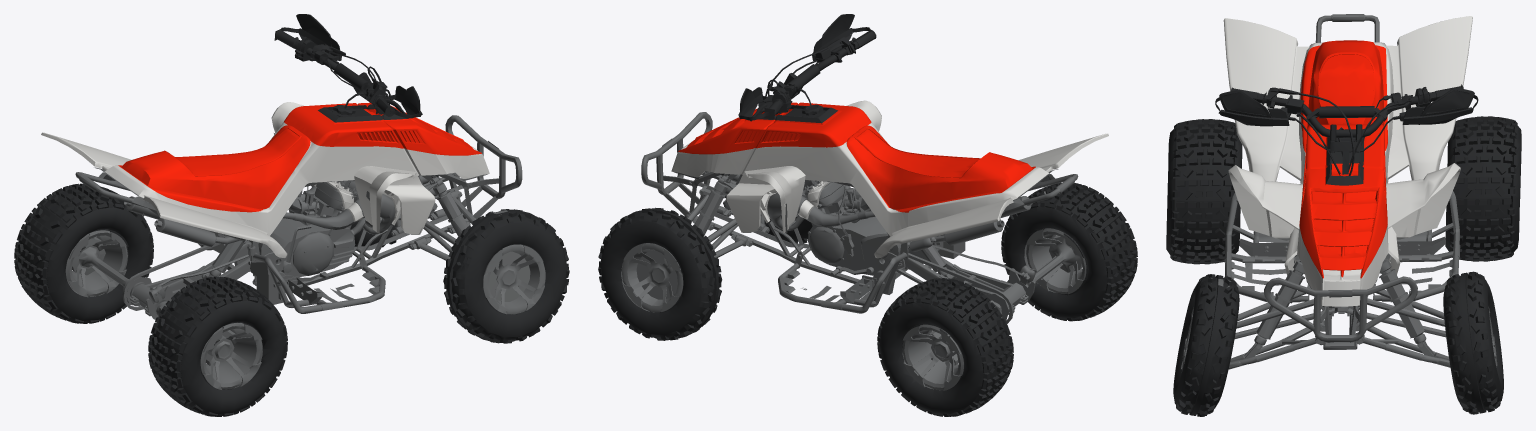
The model's file is g-quad.glb.
3 renders of one model, left to right at view 1: azimuth 30°, elevation 25°; view 2: azimuth 150°, elevation 25°; view 3: azimuth 270°, elevation 25°, orthographic. The views are drawn at different scales.
Parts seen in each view (by area): view 1: Object_5, Object_2, Object_3, Object_4; view 2: Object_5, Object_2, Object_3, Object_4; view 3: Object_5, Object_3, Object_2, Object_4.
Part boxes in pixels (x1=…): Object_5: x1=14, y1=14, x2=569, y2=416; Object_2: x1=65, y1=115, x2=545, y2=389; Object_3: x1=41, y1=102, x2=489, y2=257; Object_4: x1=118, y1=102, x2=481, y2=212; Object_5: x1=598, y1=14, x2=1137, y2=416; Object_2: x1=621, y1=112, x2=1086, y2=390; Object_3: x1=671, y1=100, x2=1108, y2=258; Object_4: x1=678, y1=102, x2=1035, y2=212; Object_5: x1=1166, y1=84, x2=1521, y2=416; Object_3: x1=1223, y1=16, x2=1472, y2=306; Object_2: x1=1181, y1=14, x2=1497, y2=372; Object_4: x1=1299, y1=40, x2=1387, y2=278.
Bounding box in the file's own units: 83.63 × 50 × 57.59.
